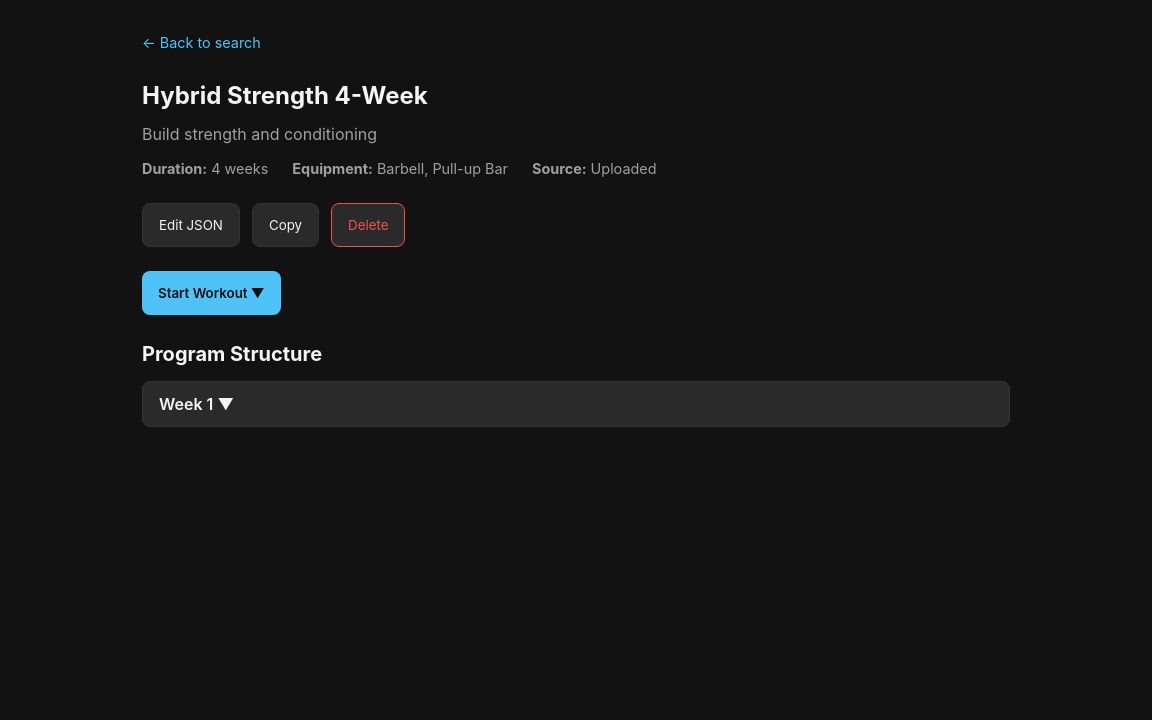
ProgramDetailPage › shows delete confirmation dialog when Delete button is clicked
The image size is (1152, 720).
Click the button "Delete" at x=368, y=225, box x1=331 y1=203 x2=405 y2=247
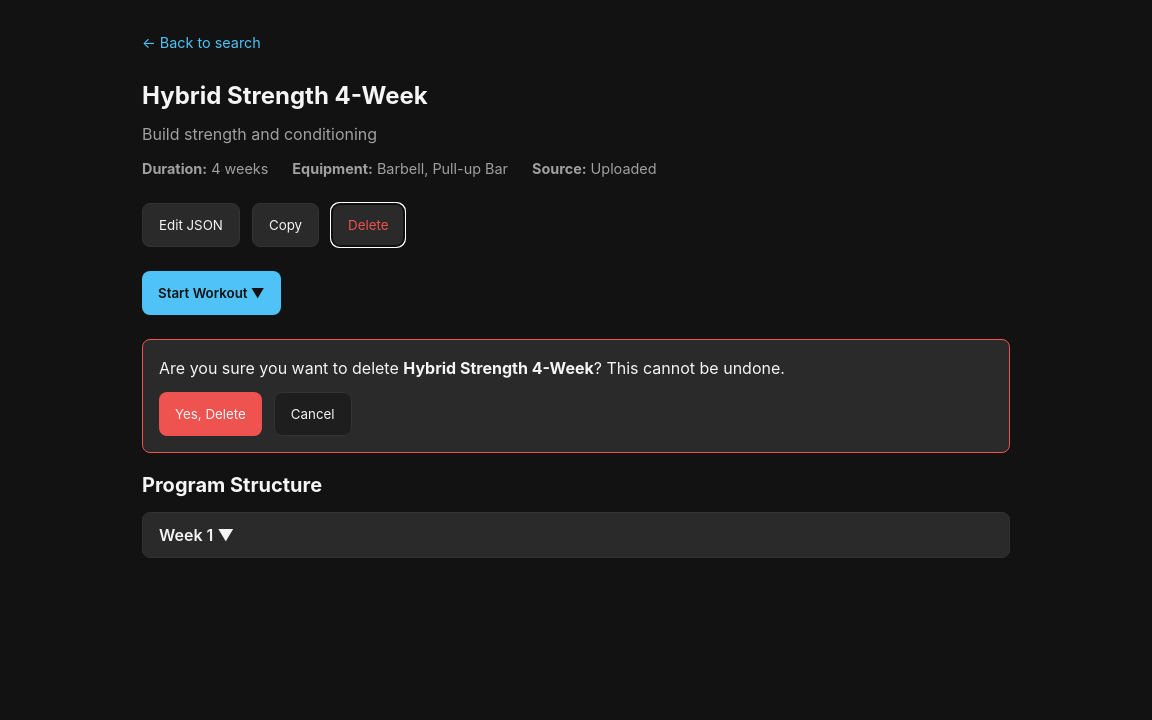
Expected: the dialog named "confirm deletion" is shown, x1=142 y1=339 x2=1010 y2=453
Expected: the text "Are you sure you want to delete" is shown, x1=159 y1=358 x2=403 y2=378
Expected: the button "Yes, Delete" is shown, x1=159 y1=392 x2=262 y2=436
